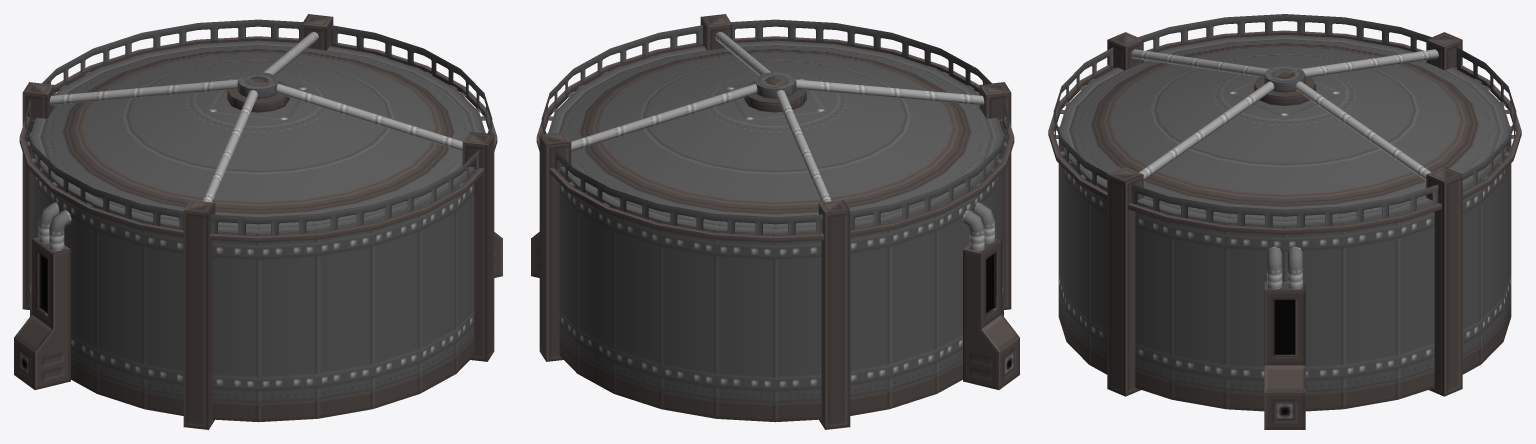
The model's file is bigasstank.obj.
3 renders of one model, left to right at view 1: azimuth 30°, elevation 25°; view 2: azimuth 150°, elevation 25°; view 3: azimuth 270°, elevation 25°, orthographic.
Parts seen in each view (by area): view 1: Circle; view 2: Circle; view 3: Circle.
Boxes of the visible parts, x1=… form: Circle: x1=14, y1=14, x2=502, y2=429; Circle: x1=531, y1=14, x2=1019, y2=429; Circle: x1=1048, y1=14, x2=1521, y2=429.
Bounding box in the file's own units: 13 × 6.62 × 11.5.
